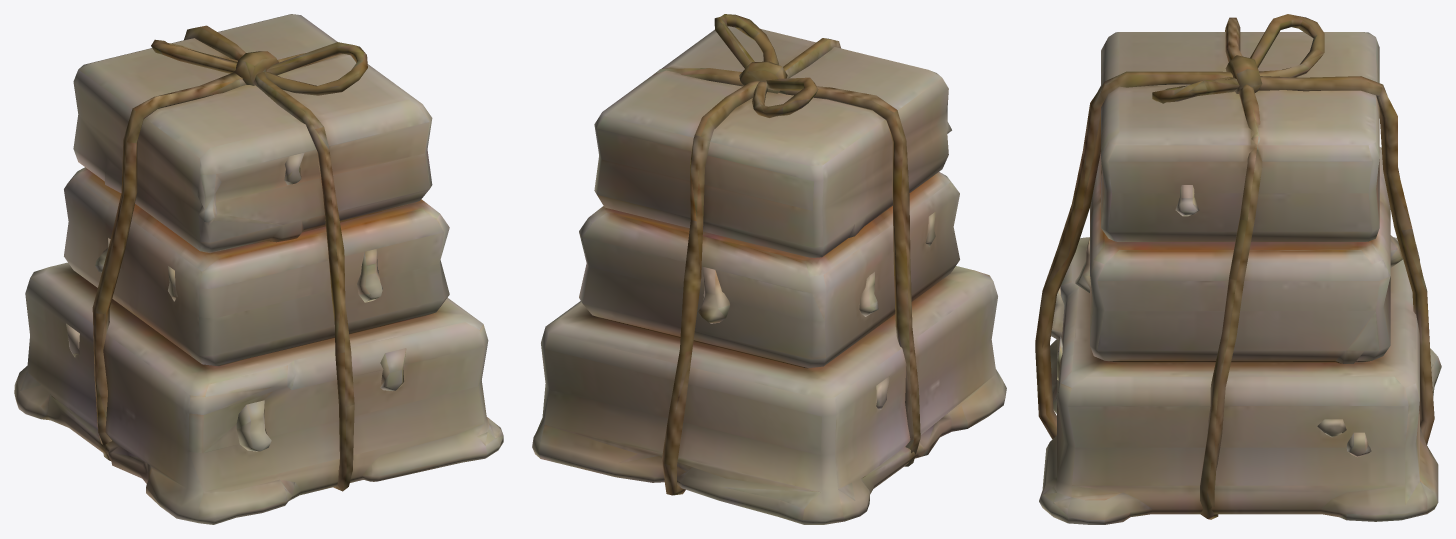
The model's file is wyn_accord_wax_blocks.glb.
3 views of the same model, side by side, from view 1: azimuth 30°, elevation 25°; view 2: azimuth 150°, elevation 25°; view 3: azimuth 270°, elevation 25° (orthographic). The views are drawn at different scales.
Parts seen in each view (by area): view 1: tripo_node_5b07b706-bdcf-4579-b389-6d09d8aeacdb; view 2: tripo_node_5b07b706-bdcf-4579-b389-6d09d8aeacdb; view 3: tripo_node_5b07b706-bdcf-4579-b389-6d09d8aeacdb.
Part boxes in pixels (bbox=[...]): tripo_node_5b07b706-bdcf-4579-b389-6d09d8aeacdb: bbox=[14, 14, 503, 524]; tripo_node_5b07b706-bdcf-4579-b389-6d09d8aeacdb: bbox=[532, 14, 1006, 524]; tripo_node_5b07b706-bdcf-4579-b389-6d09d8aeacdb: bbox=[1035, 14, 1441, 524].
Bounding box in the file's own units: 0.4024 × 0.45 × 0.4061.
1 material, 1 textured.
